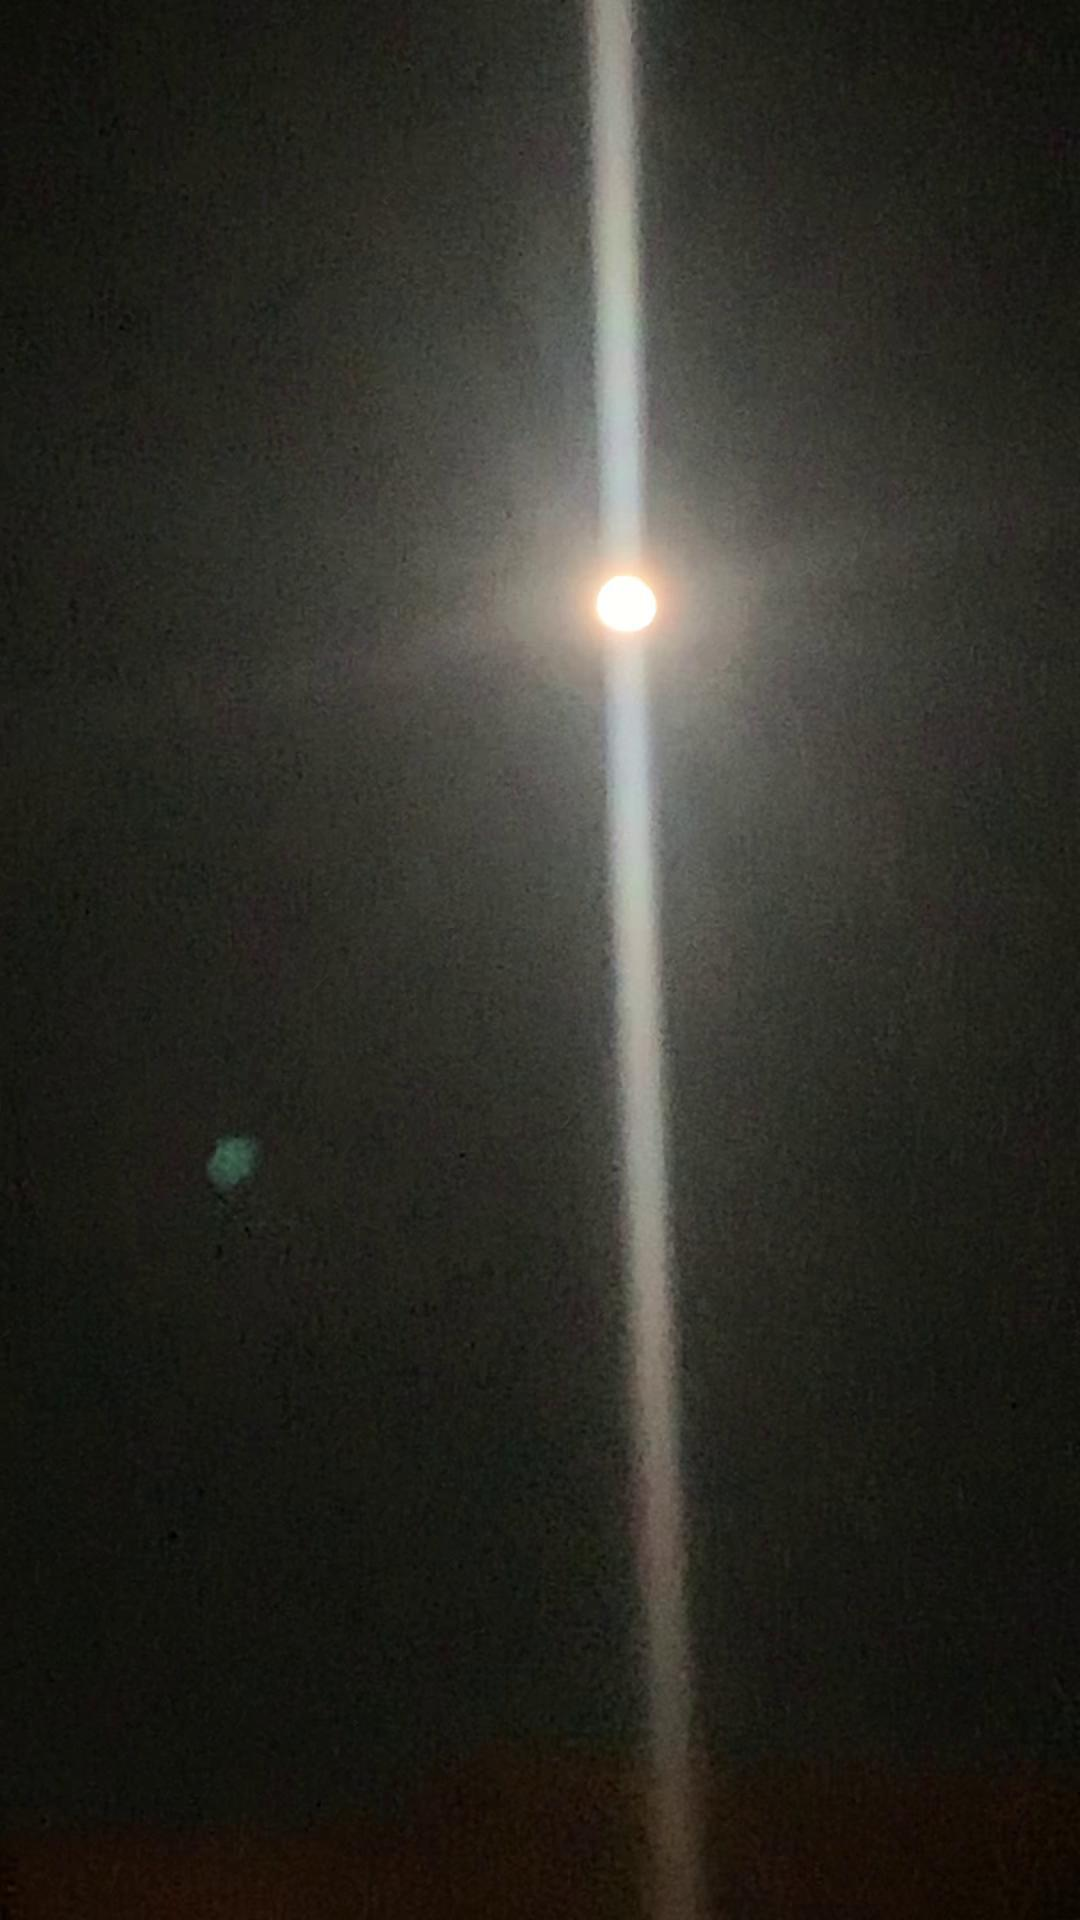moon: (562, 543, 691, 669)
